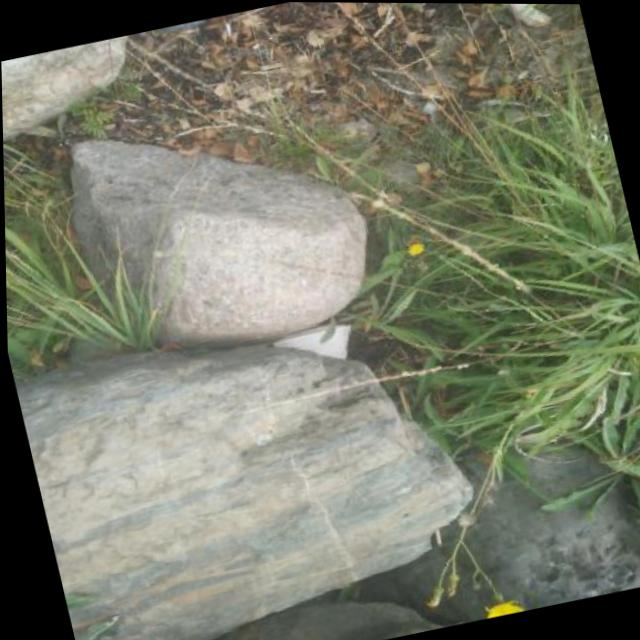cardboard: (270, 318, 359, 375)
